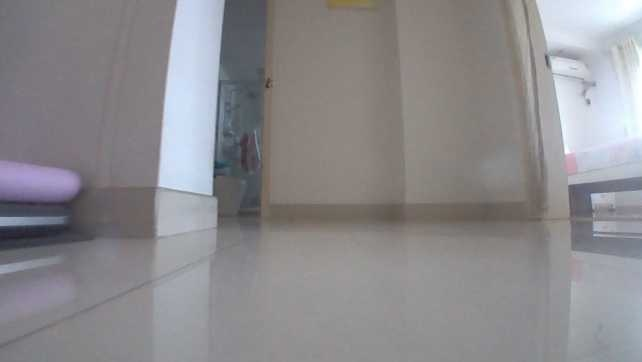bed1: (565, 136, 641, 215)
toilet: (214, 173, 249, 218)
